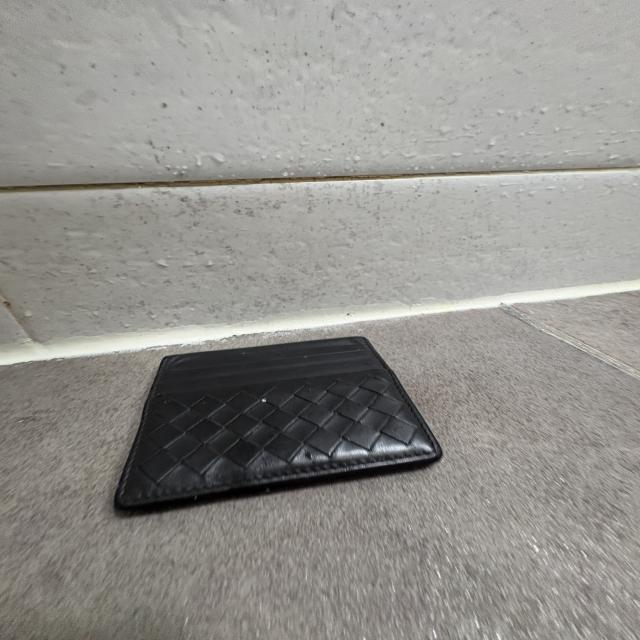wallet: (112, 336, 444, 521)
